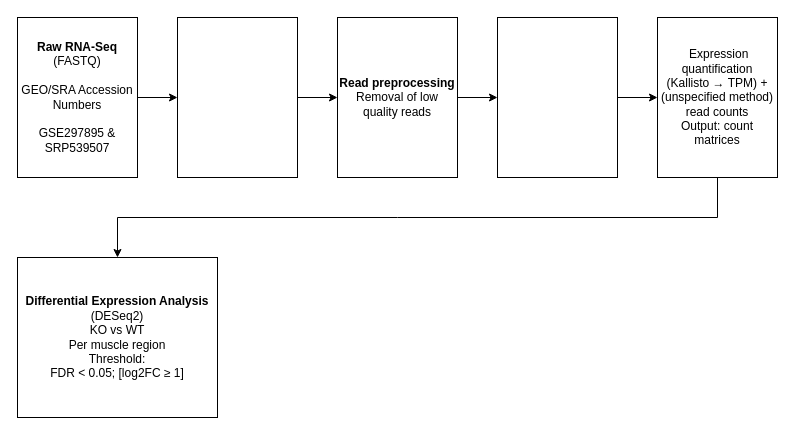
Image size: 795x435. Some labels were removed from this diagram. The shapes that lost their labels are listed below. From the top down, each one's centre as x and y in pixels, then its label:
At point (237, 97): "Quality Control (unspecified mehtod) Read quality metrics Q20/q30, GC %".
At point (557, 97): "Read alignment (STAR) Reference genome Output: BAM".
